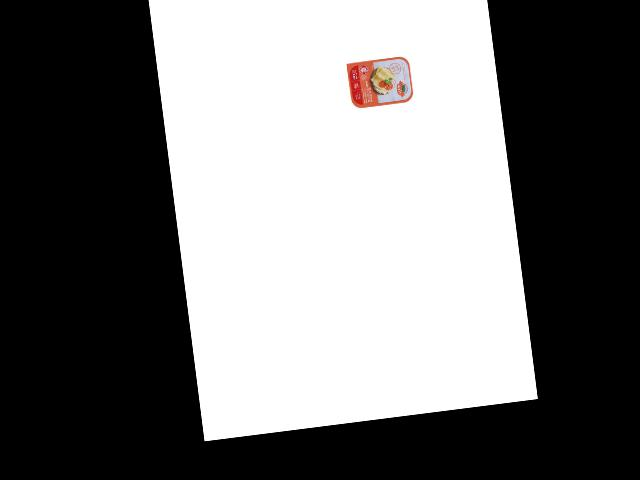cheese: (342, 54, 416, 112)
